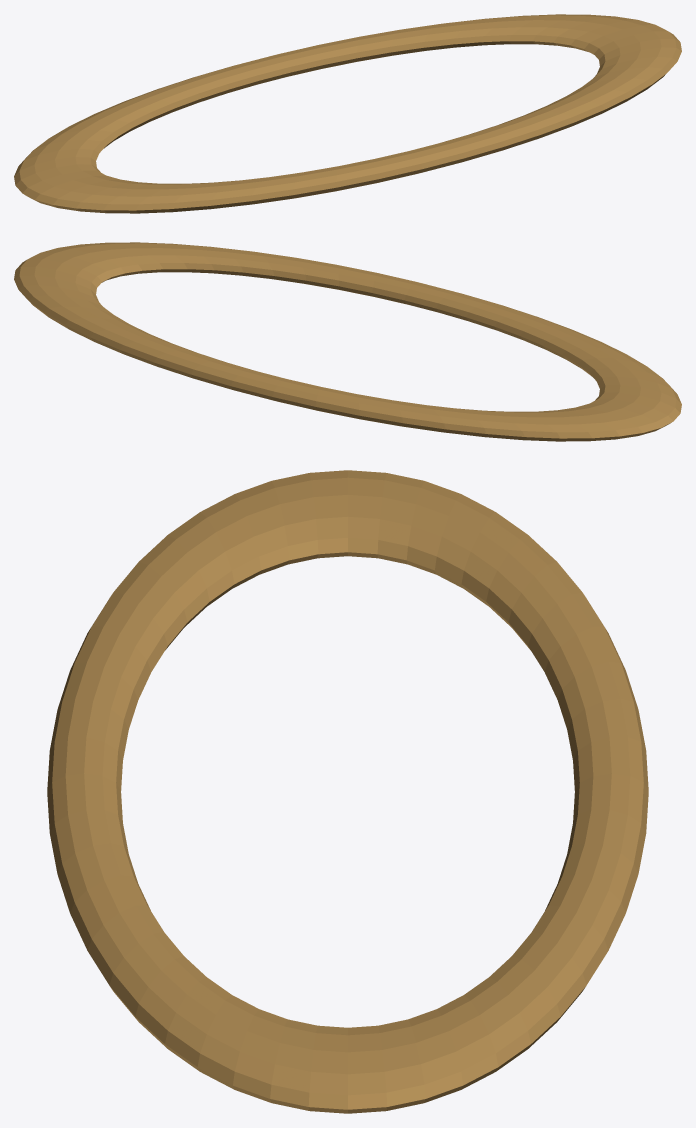
The model's file is boomerang.glb.
3 renders of one model, top to bottom at view 1: azimuth 30°, elevation 25°; view 2: azimuth 150°, elevation 25°; view 3: azimuth 270°, elevation 25°, orthographic. The views are drawn at different scales.
Visible parts, largest first — view 1: Torus; view 2: Torus; view 3: Torus.
Boxes of the visible parts, left/top/right/bottom form: Torus: left=14, top=14, right=681, bottom=213; Torus: left=14, top=242, right=681, bottom=441; Torus: left=47, top=470, right=648, bottom=1113.
Bounding box in the file's own units: 1 × 0.027 × 0.4.
